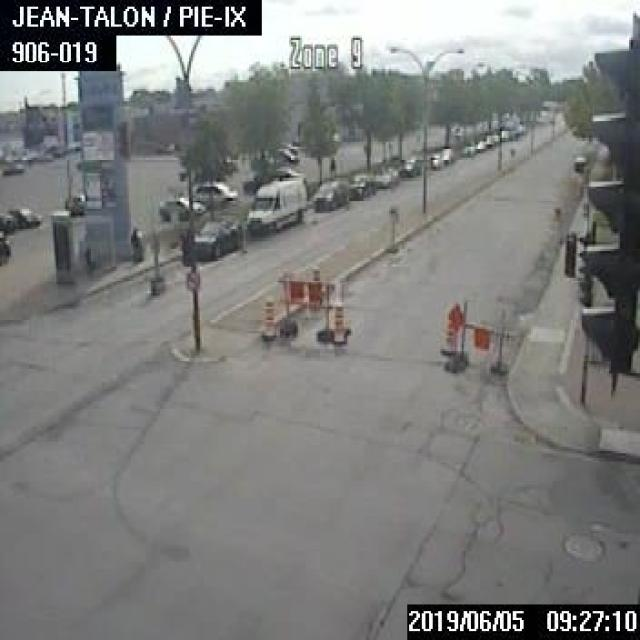construction: (442, 300, 511, 369), (274, 265, 333, 341), (258, 292, 273, 338), (331, 302, 345, 343), (440, 318, 455, 353)
pedestrian: (128, 223, 142, 259), (328, 155, 334, 176)
vehicle: (246, 176, 306, 232), (192, 215, 241, 260), (241, 164, 295, 192), (311, 177, 347, 211), (189, 181, 235, 205), (157, 197, 203, 218), (8, 204, 39, 225), (347, 172, 374, 196), (374, 163, 396, 186), (398, 155, 420, 176), (274, 146, 297, 164), (0, 231, 9, 265), (572, 153, 588, 171), (0, 213, 13, 231), (426, 153, 440, 169), (439, 146, 453, 162), (462, 140, 474, 154), (482, 133, 494, 146), (488, 128, 499, 142), (474, 138, 485, 150), (499, 129, 508, 140)
